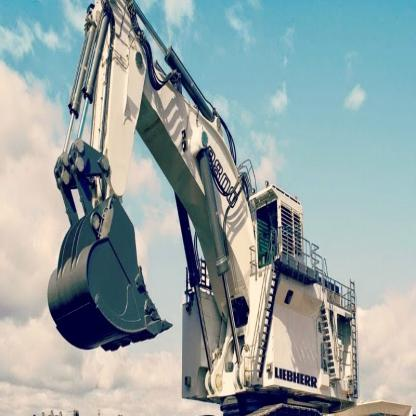excavator: (48, 4, 363, 415)
